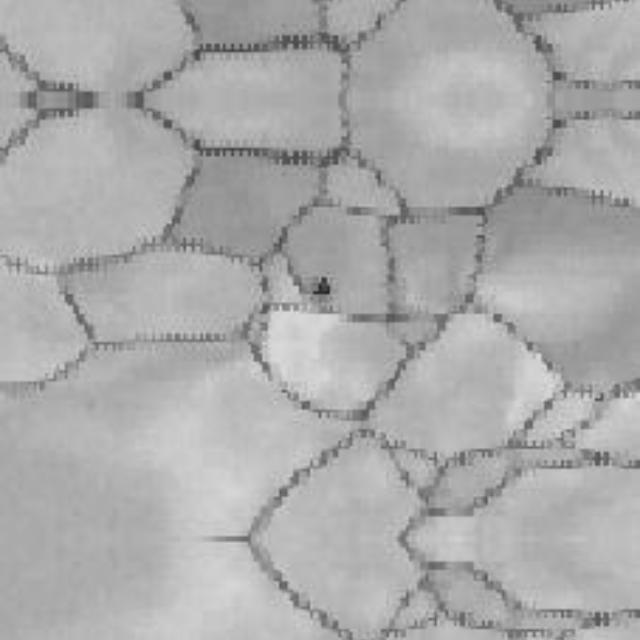good_void: (305, 275, 336, 305)
